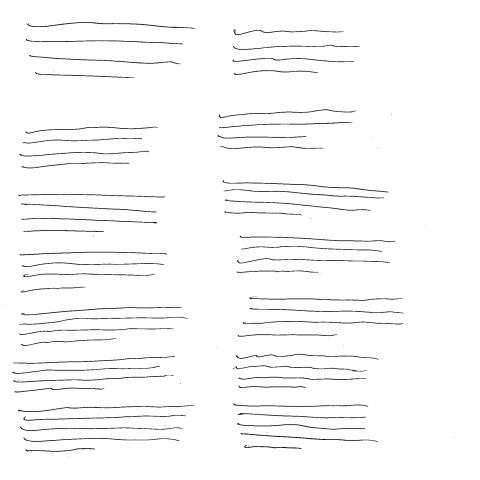Paragraph: (20, 21, 197, 80), (17, 403, 197, 454), (18, 305, 189, 349), (235, 298, 409, 340), (218, 178, 391, 220), (10, 355, 180, 397), (232, 236, 397, 278), (233, 403, 373, 451), (19, 251, 173, 294), (215, 109, 361, 154), (18, 191, 167, 235), (19, 124, 162, 169), (230, 29, 363, 76), (234, 354, 378, 393)
